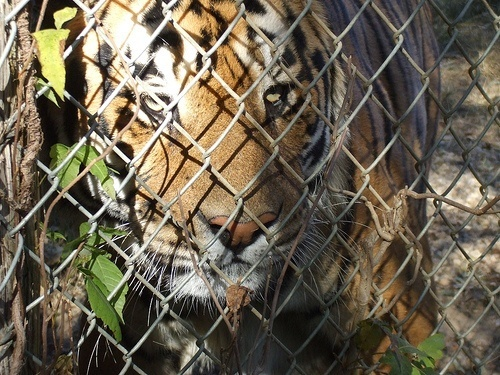tigre: (62, 1, 441, 364)
